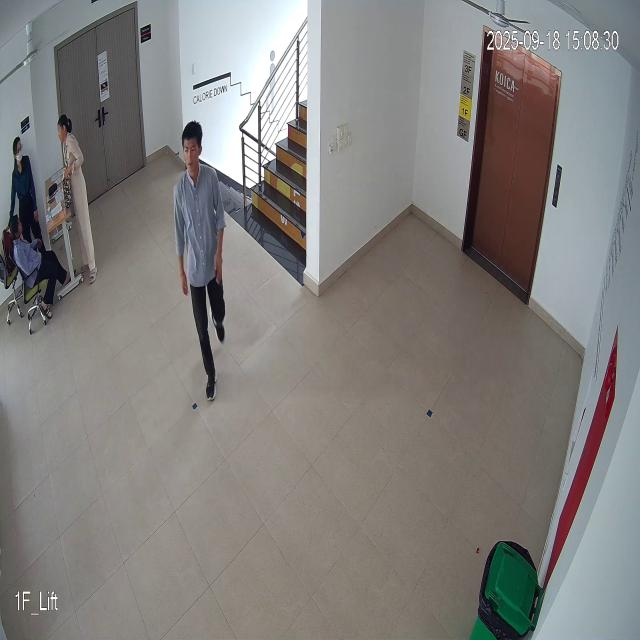face: (180, 118, 204, 174)
